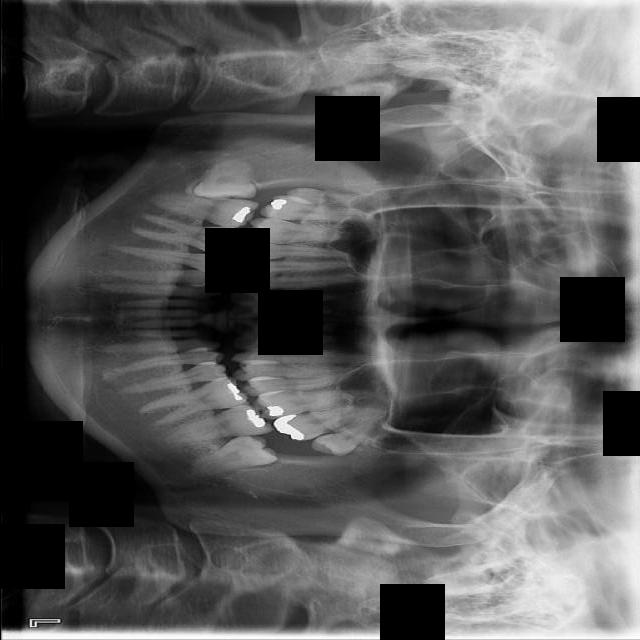3M ESPE Implant: (284, 186, 361, 210)
52: (192, 373, 250, 415), (215, 400, 273, 442), (250, 387, 306, 424), (272, 410, 331, 444), (202, 196, 259, 231), (258, 195, 316, 221)
73: (72, 600, 82, 606)
BioHorizons Implant: (271, 402, 387, 445)
BioLife Implant: (307, 420, 375, 465)
Biomet 3i Implant: (182, 429, 278, 482)
Blue Sky Bio Implant: (155, 402, 274, 446)
Caries: (258, 194, 373, 224)
Implant: (145, 190, 259, 231)
Keystone Dental Implant: (190, 151, 257, 202)
